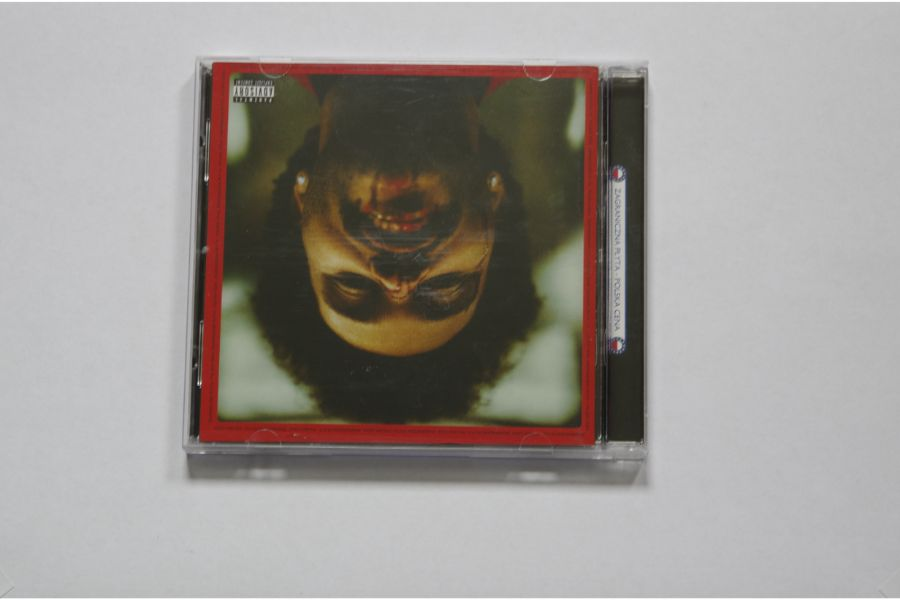album: (184, 54, 650, 466)
